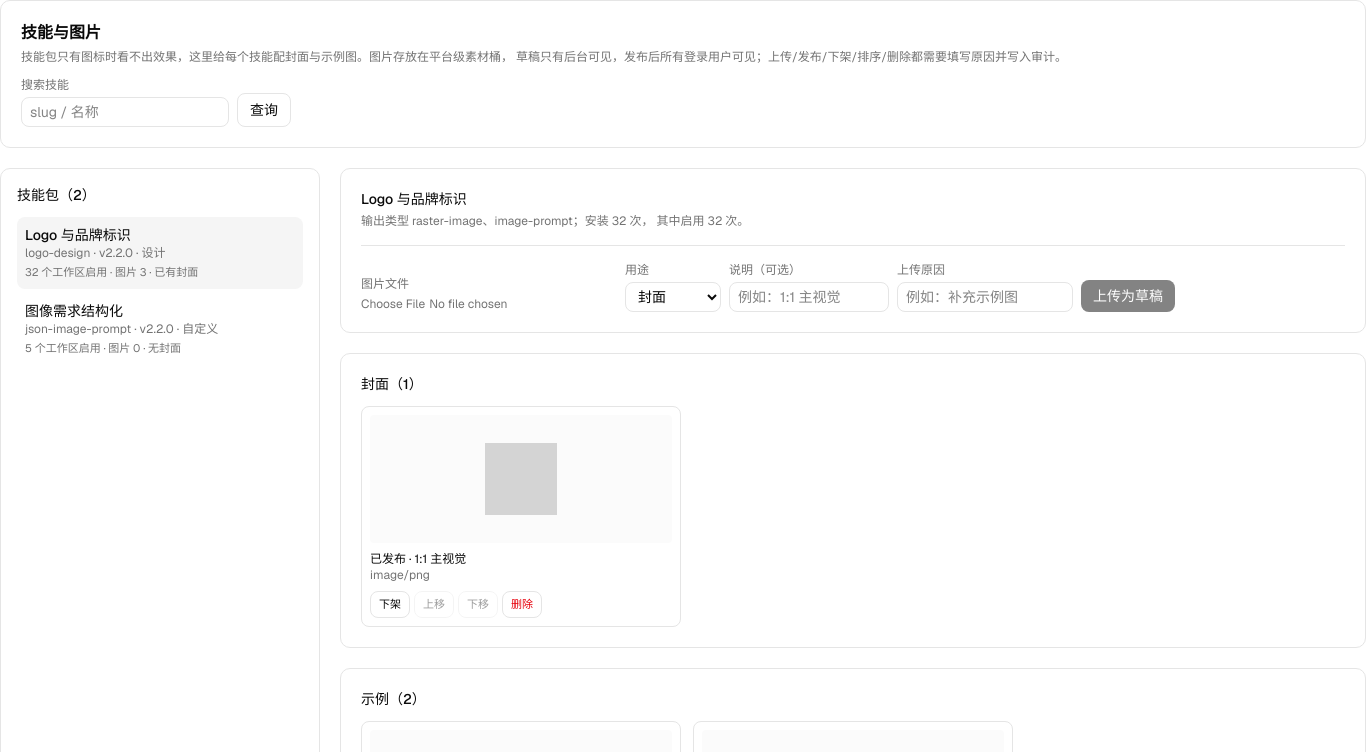
Scenario: admin skills section › deletes an image record with a reason and keeps the row when the server refuses
Click the button "删除". click: coordinates (522, 604)
box: [502, 591, 542, 618]
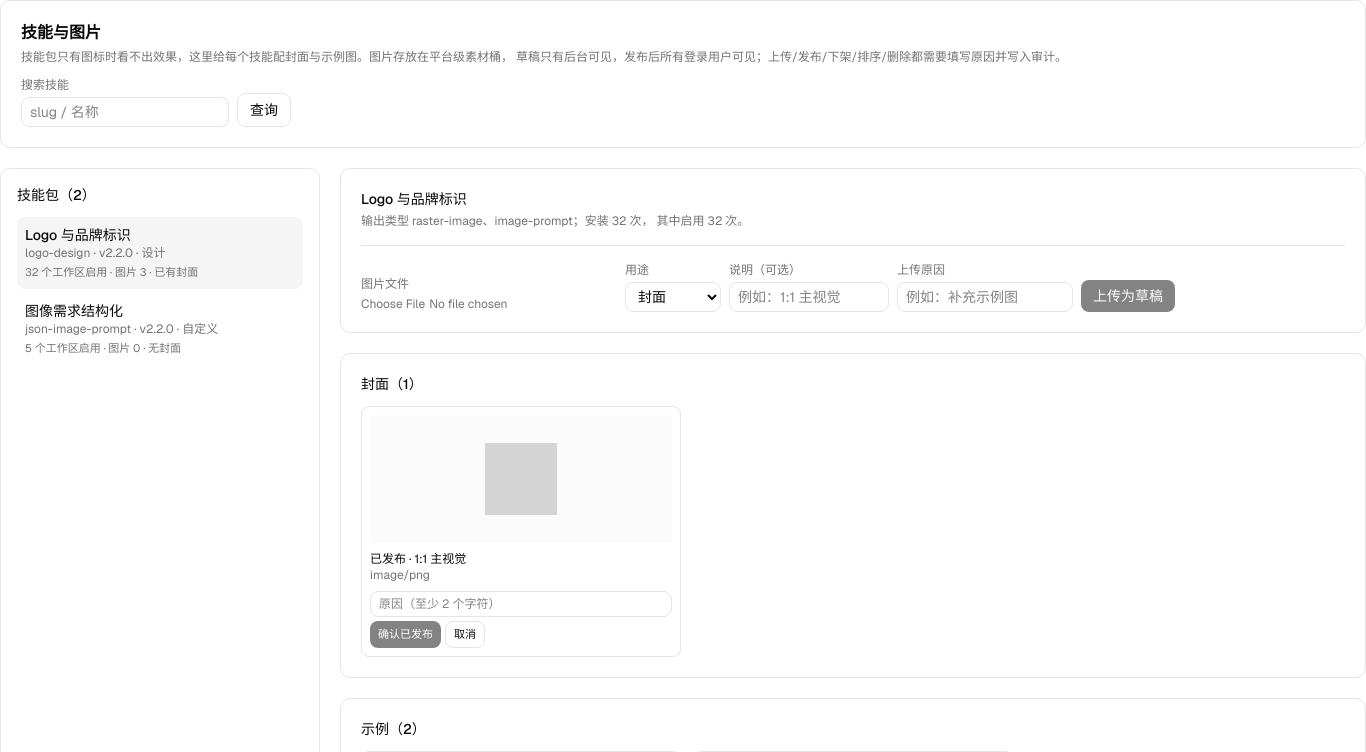
Type "换图" into the field named "已发布操作原因". click: coordinates (521, 604)
box: [370, 591, 672, 617]
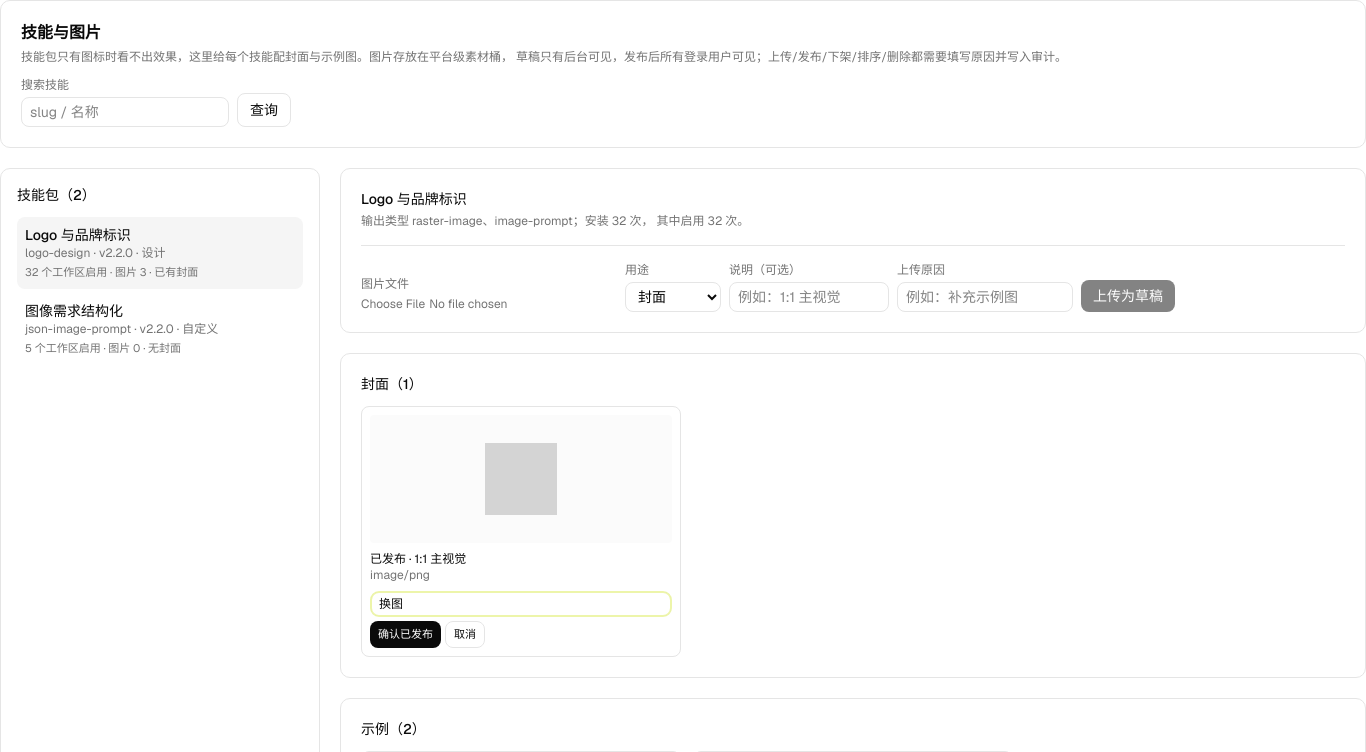
Click the button "确认已发布". click: coordinates (406, 634)
box: [370, 621, 441, 648]
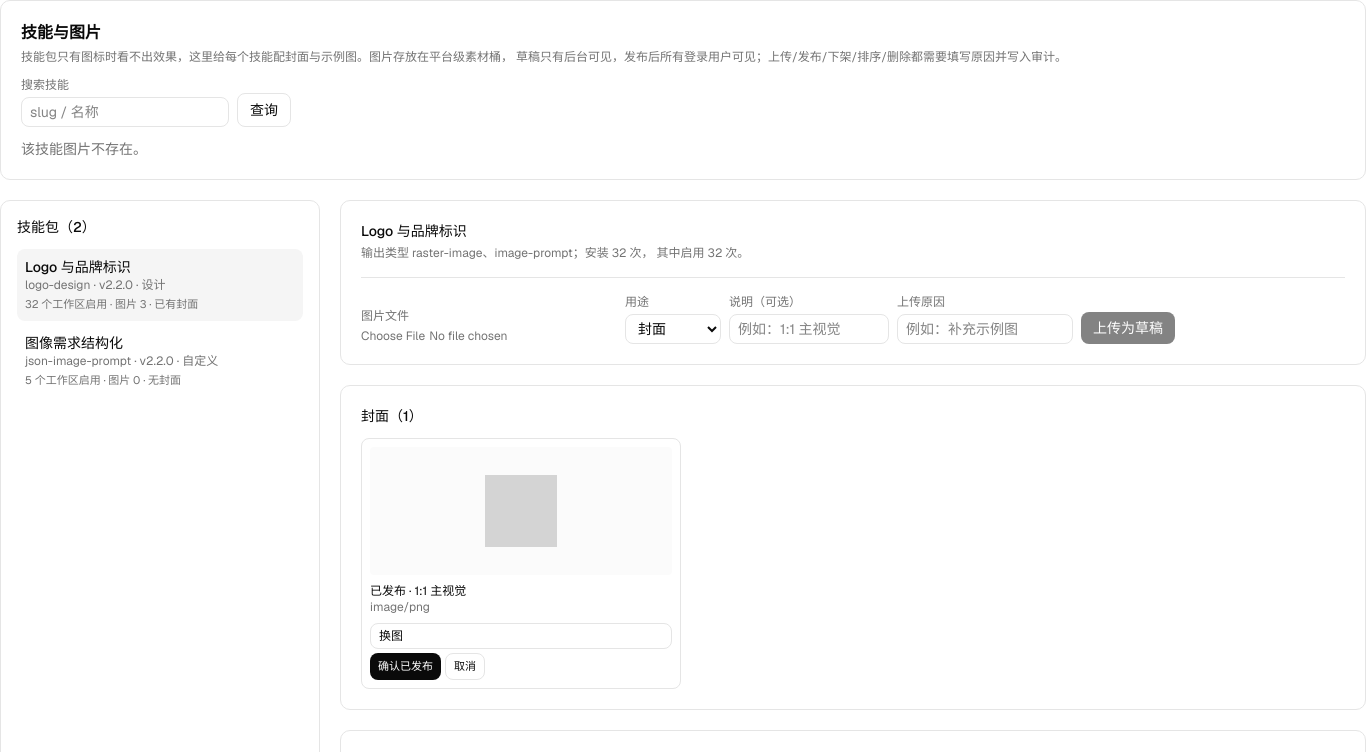
Expected: the element with test id "admin-skill-previews-cover" is shown, [340, 385, 1365, 710]
Now the text with test id "admin-skills-feedback" reads "该技能图片不存在。", box [21, 140, 147, 158]
